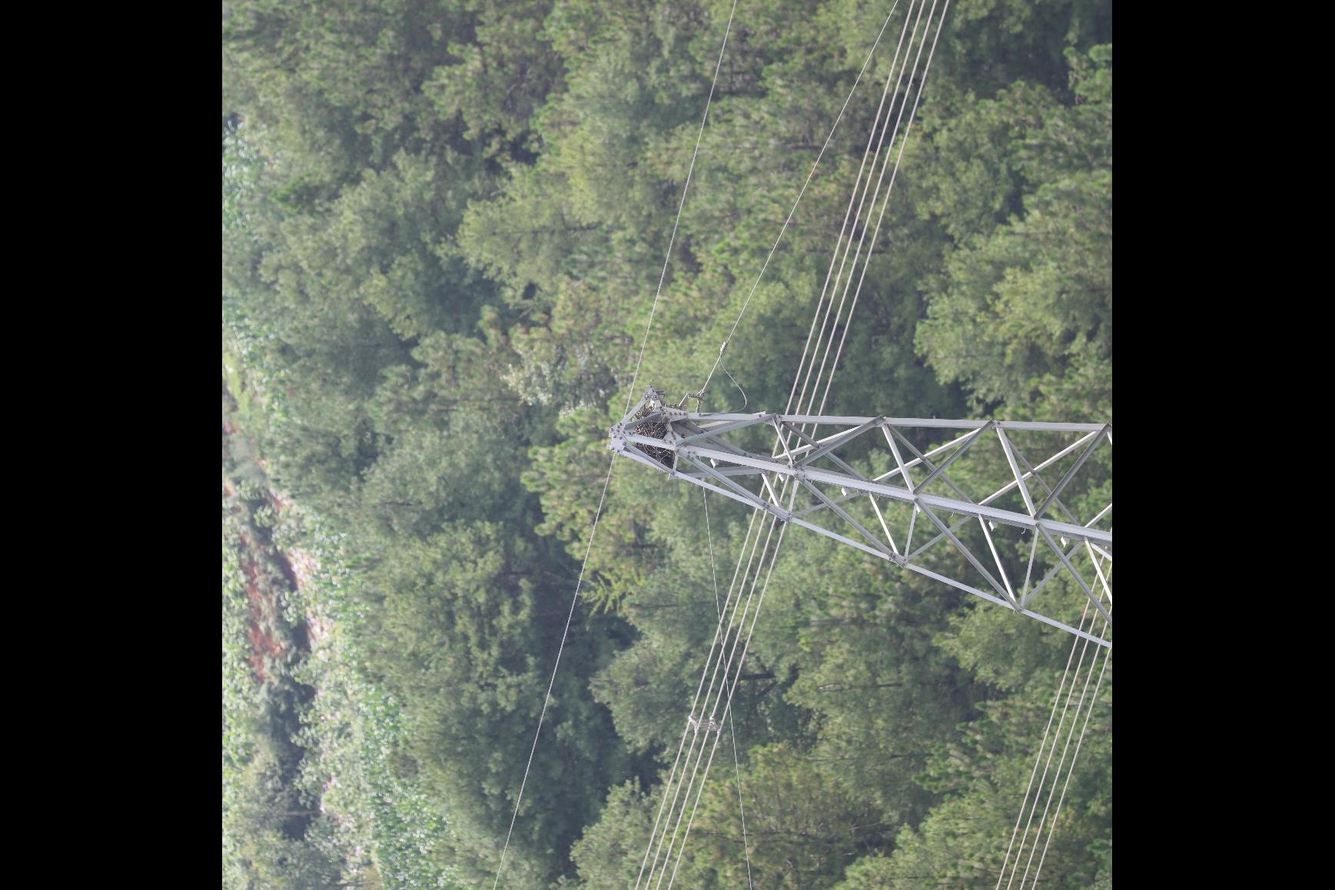nest: (630, 403, 675, 469)
